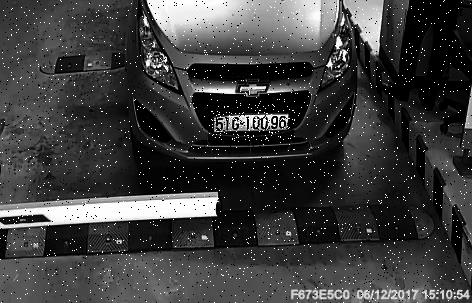License-plate: (210, 106, 297, 142)
